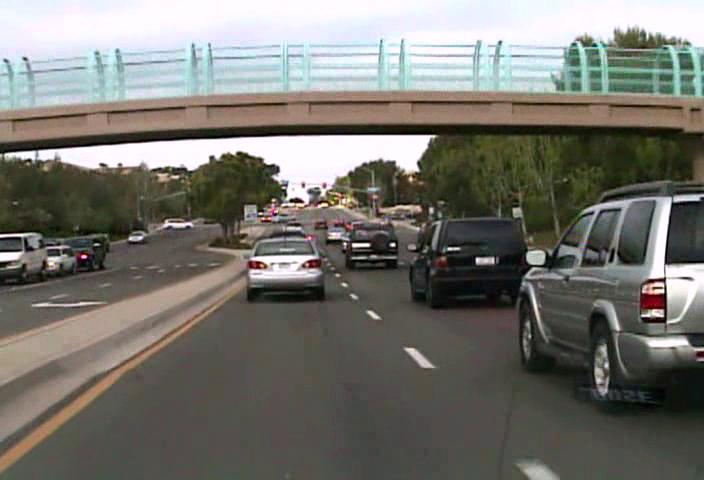speedLimitUrdbl: (243, 204, 257, 221)
